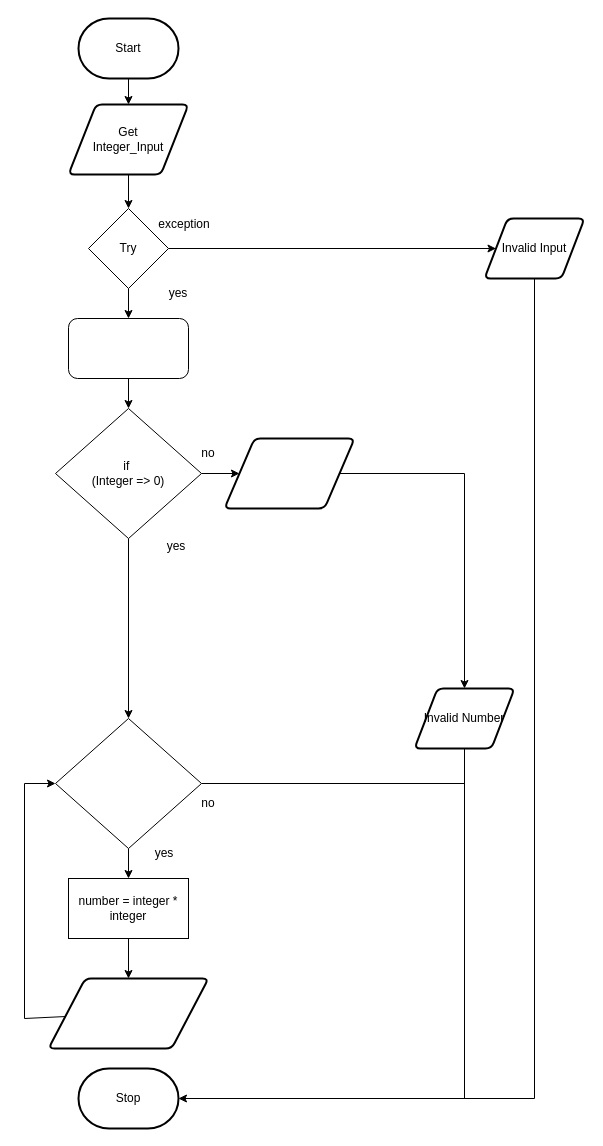
This 603x1146 diagram has some shape labels left out. The shapes that lost their labels are listed below. From the top down, each one's centre as x and y in pixels, then its label:
the point at 128,348: convert int to string
the point at 289,473: Program does not accept numbers less than or equal to 0
the point at 128,783: for number = 0; integer < number + 1; integer++;
the point at 128,1013: print number²
